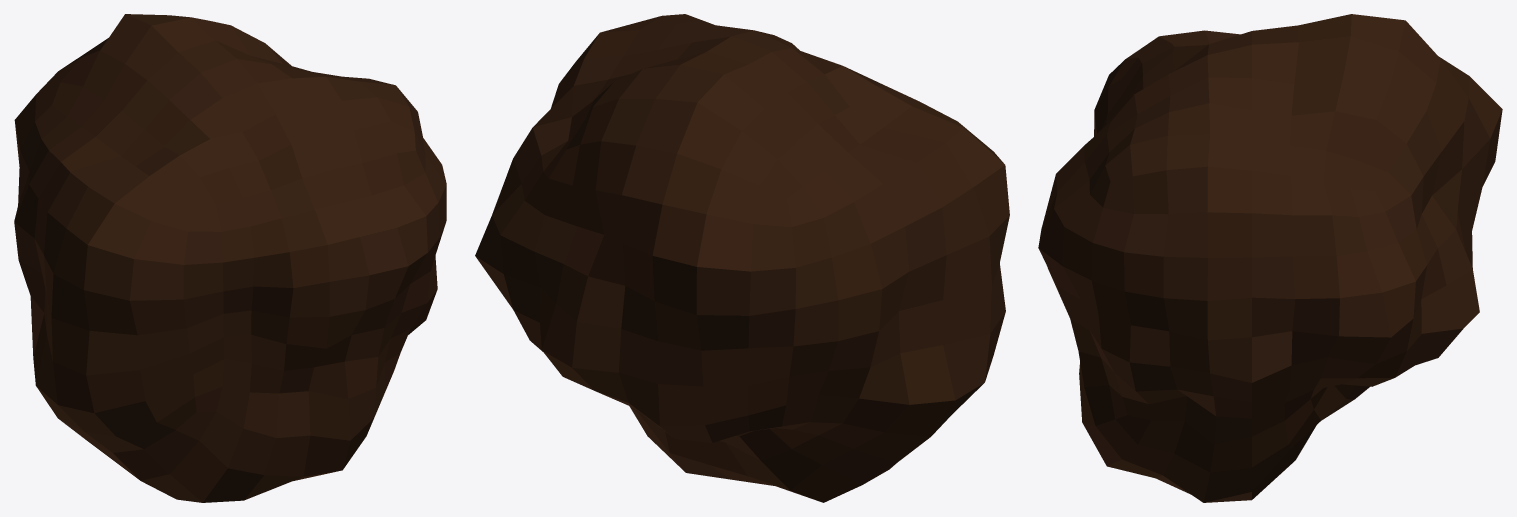
The model's file is Asteroid1.fbx.
3 renders of one model, left to right at view 1: azimuth 30°, elevation 25°; view 2: azimuth 150°, elevation 25°; view 3: azimuth 270°, elevation 25°, orthographic. The views are drawn at different scales.
Visible parts, largest first — view 1: Asteroid1; view 2: Asteroid1; view 3: Asteroid1.
Part boxes in pixels (x1,y1,x2,y2): Asteroid1: (14, 14, 446, 502); Asteroid1: (475, 14, 1009, 502); Asteroid1: (1038, 14, 1502, 502).
Size of the model in its own units: 1425 by 1457 by 1379.
